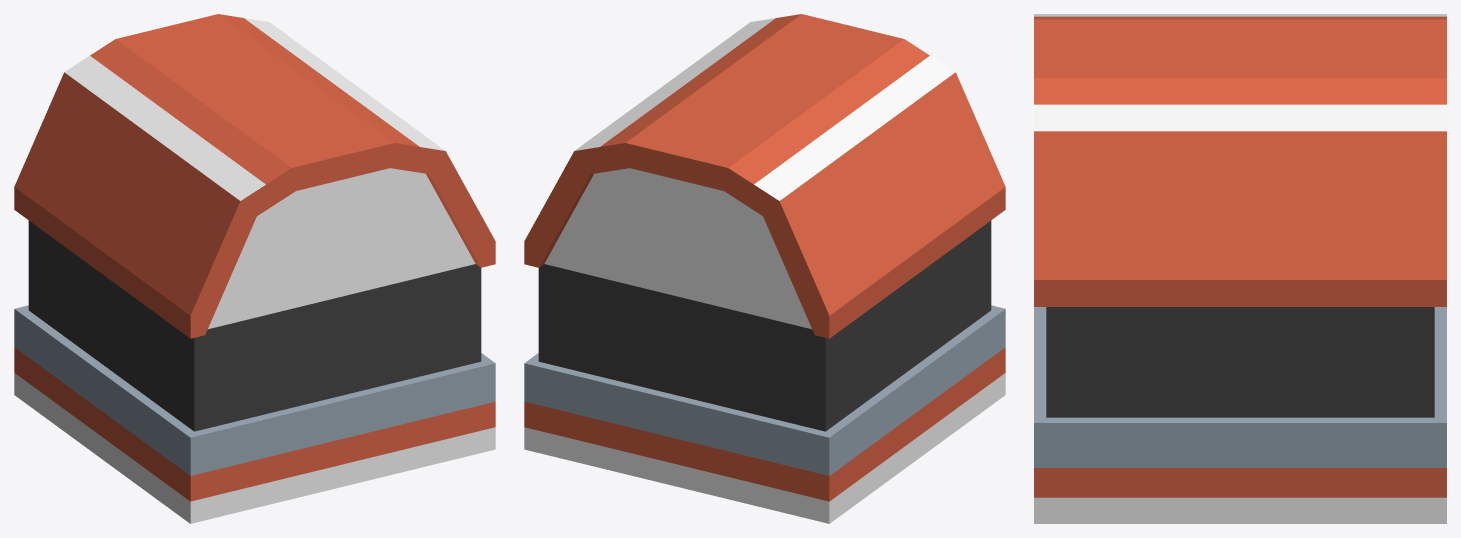
The model's file is buildingCorridor.glb.
3 views of the same model, side by side, from view 1: azimuth 30°, elevation 25°; view 2: azimuth 150°, elevation 25°; view 3: azimuth 270°, elevation 25° (orthographic). The views are drawn at different scales.
Visible parts, largest first — view 1: buildingCorridor; view 2: buildingCorridor; view 3: buildingCorridor.
Part boxes in pixels (x1,y1,x2,y2): buildingCorridor: (14,14,495,523); buildingCorridor: (524,14,1005,523); buildingCorridor: (1034,14,1446,523).
Size of the model in its own units: 10 by 10.37 by 10.
